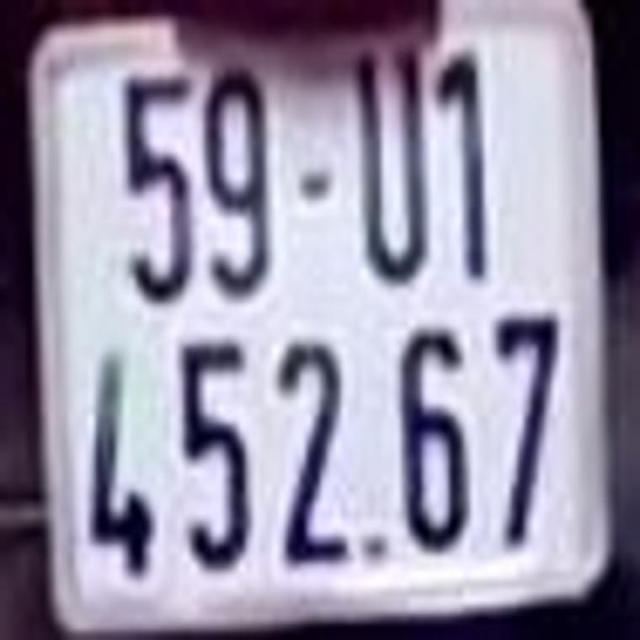1: (436, 51, 495, 280)
2: (276, 336, 350, 565)
4: (86, 348, 157, 580)
5: (120, 71, 196, 302), (178, 339, 252, 571)
6: (398, 326, 472, 552)
7: (492, 313, 561, 550)
9: (203, 66, 273, 300)
U: (353, 49, 432, 284)
